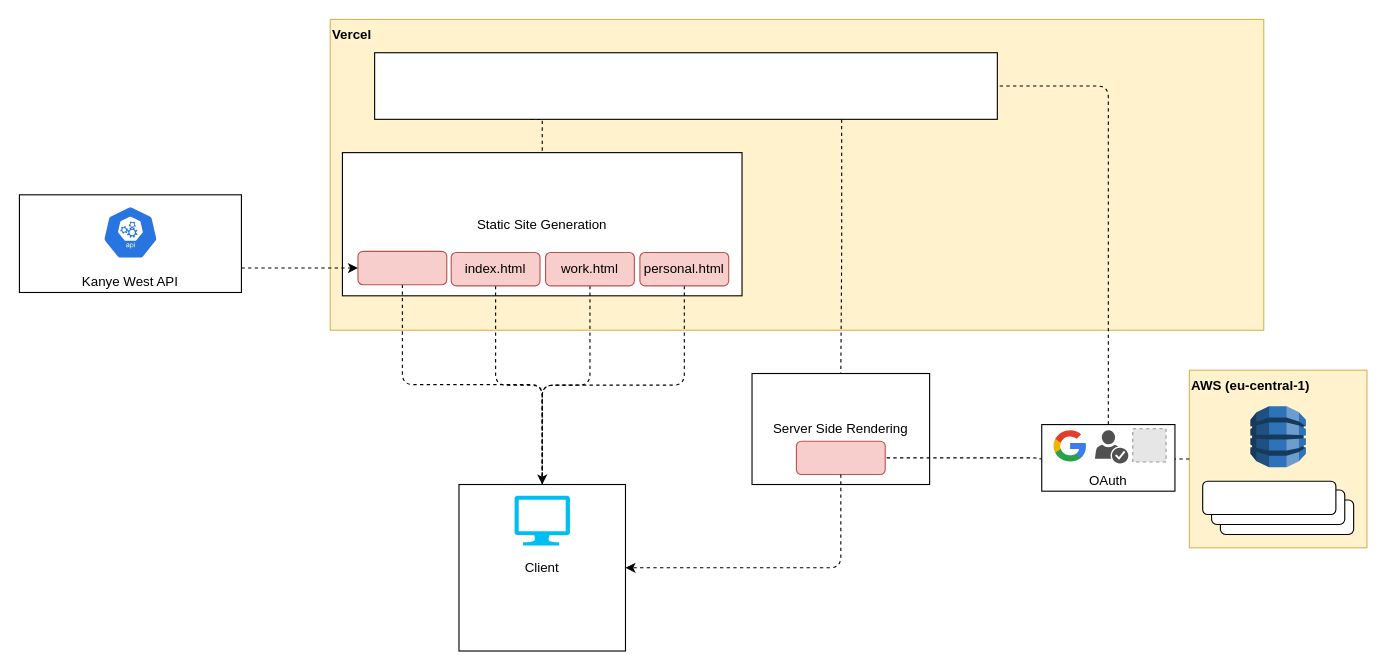
This 1386x670 diagram has some shape labels left out. Grey dashed boxes stand in for pictures. Here are the shapes that lost their labels. From the top down, the centre of each, then its label:
the point at 685,85: NextJS
the point at 402,267: about.html
the point at 840,457: api.html
the point at 1269,497: DynamoDB
